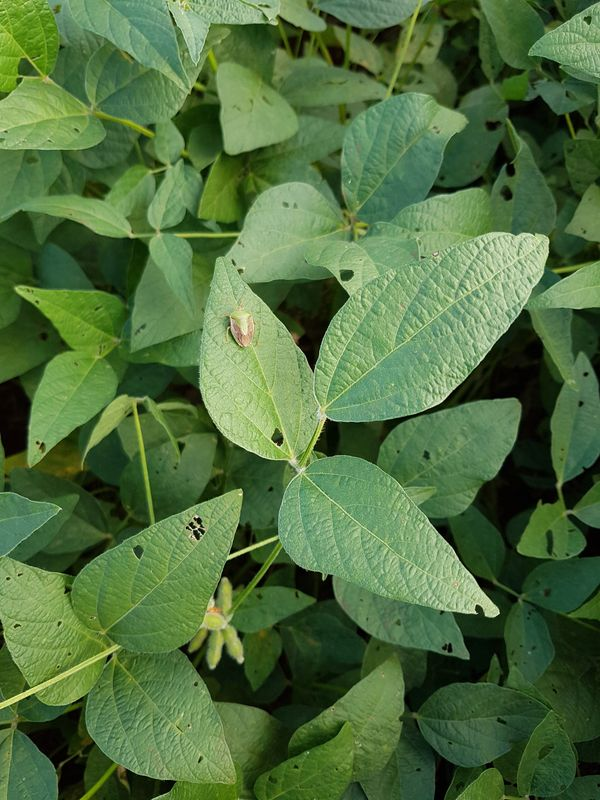Edessa_meditabunda: (216, 299, 265, 356)
